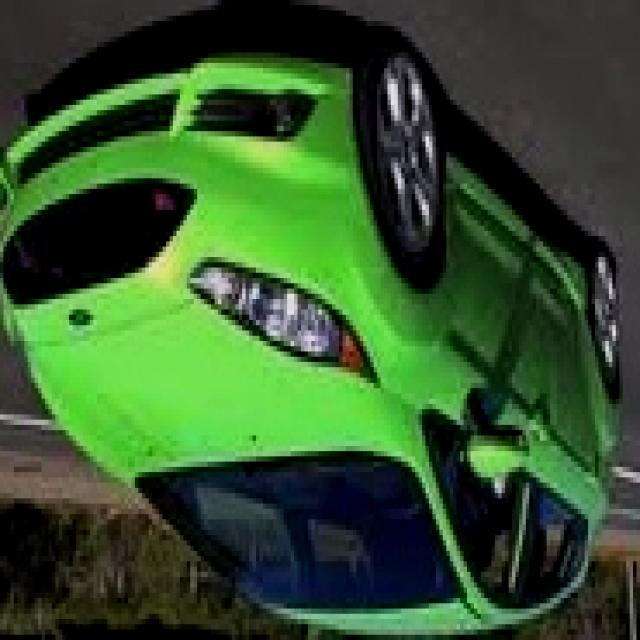green: (0, 37, 619, 640)
